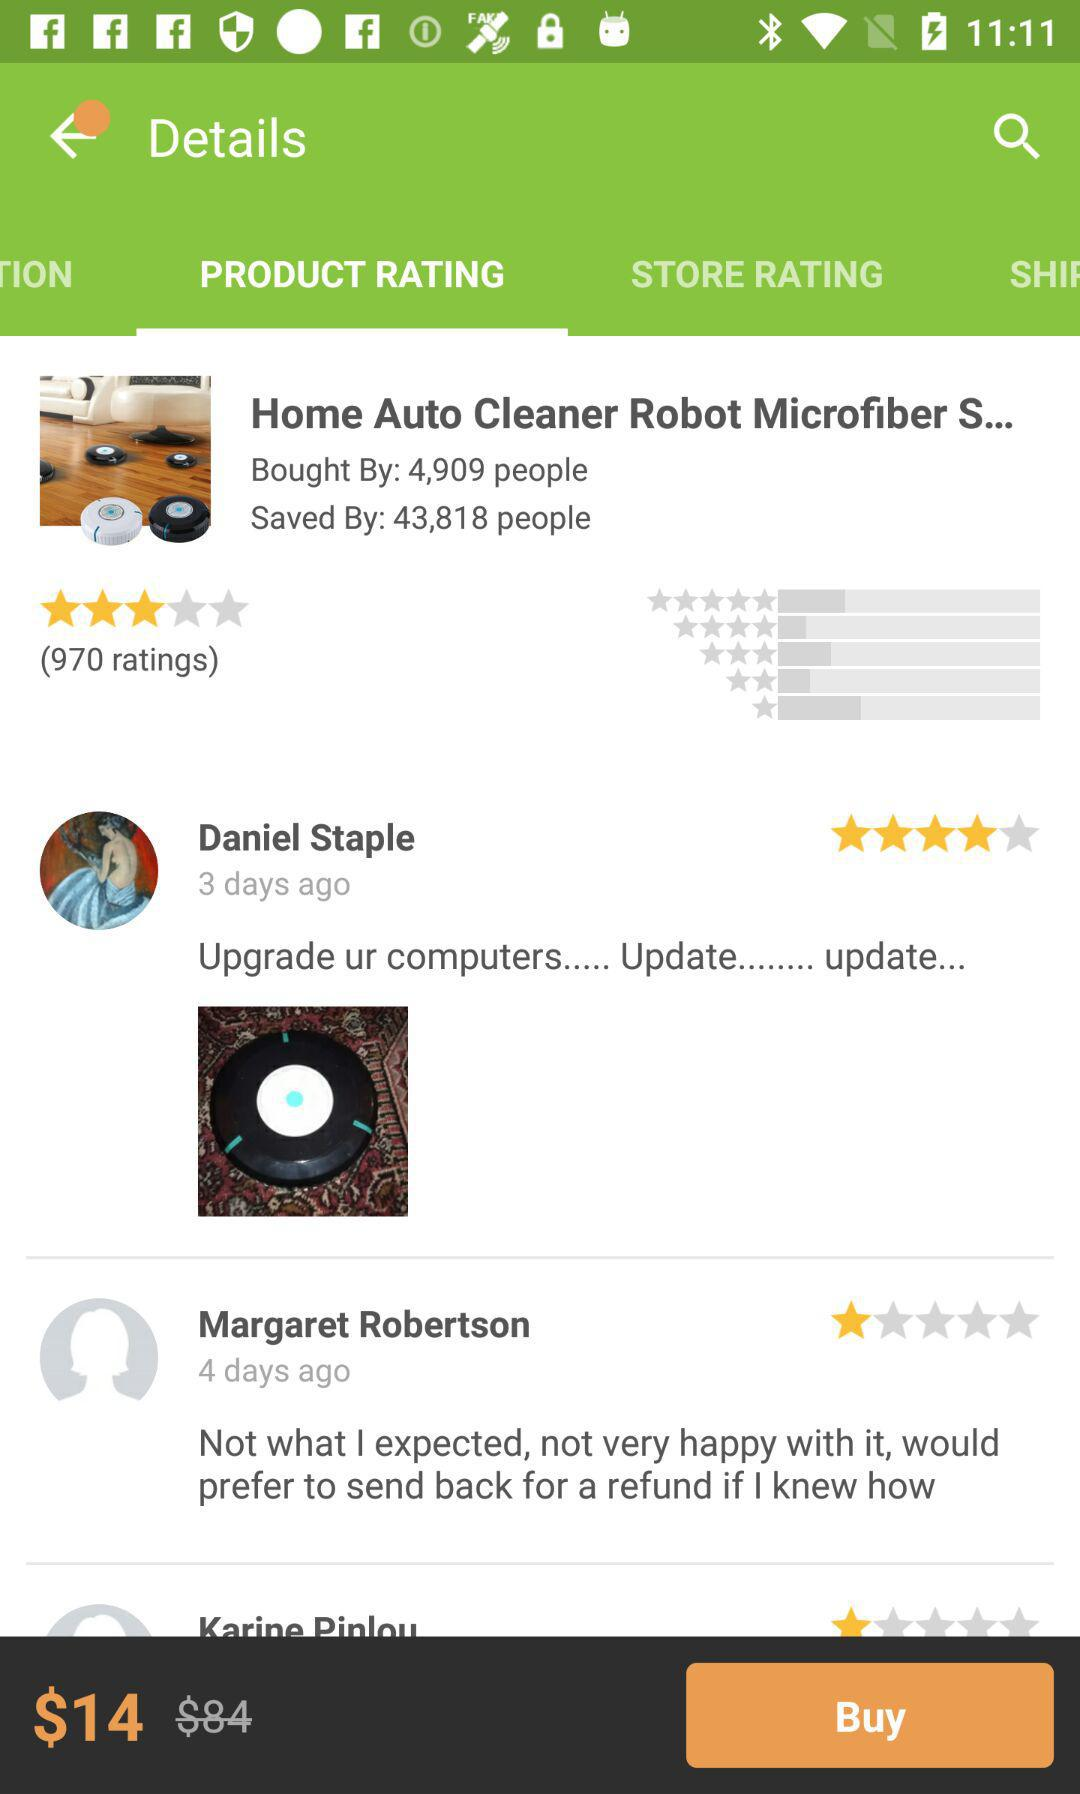Icon: (40, 1298, 160, 1402), (831, 811, 1042, 859), (828, 1299, 1043, 1343), (41, 587, 252, 630), (831, 1606, 1040, 1636), (49, 100, 111, 161), (646, 587, 778, 613), (673, 615, 778, 639), (992, 111, 1042, 161), (697, 641, 776, 666), (724, 669, 778, 695), (752, 697, 776, 721)
Image: (199, 1006, 409, 1217), (40, 375, 211, 546), (40, 811, 160, 932), (40, 1603, 158, 1636)
Text: (199, 1426, 999, 1507), (200, 941, 965, 979), (252, 396, 1013, 431), (200, 1308, 530, 1345), (252, 504, 592, 537), (252, 457, 589, 490), (201, 260, 505, 290), (200, 821, 416, 859), (632, 260, 883, 290), (35, 1684, 145, 1749), (150, 117, 307, 161), (199, 1608, 416, 1638), (41, 645, 219, 679), (199, 870, 351, 903), (199, 1357, 351, 1389), (174, 1694, 252, 1738), (1, 260, 73, 290), (1010, 260, 1080, 290)
TextButton: (685, 1662, 1054, 1768)
UpperTaskBar: (1, 1, 1080, 64)
